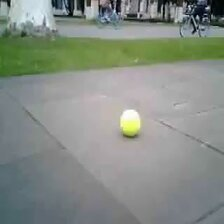tennis: (120, 110, 141, 137)
